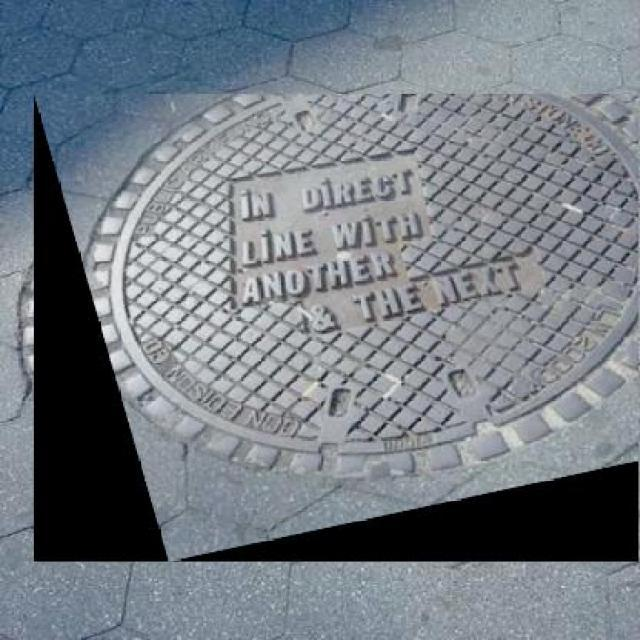Manhole: (34, 94, 638, 562)
